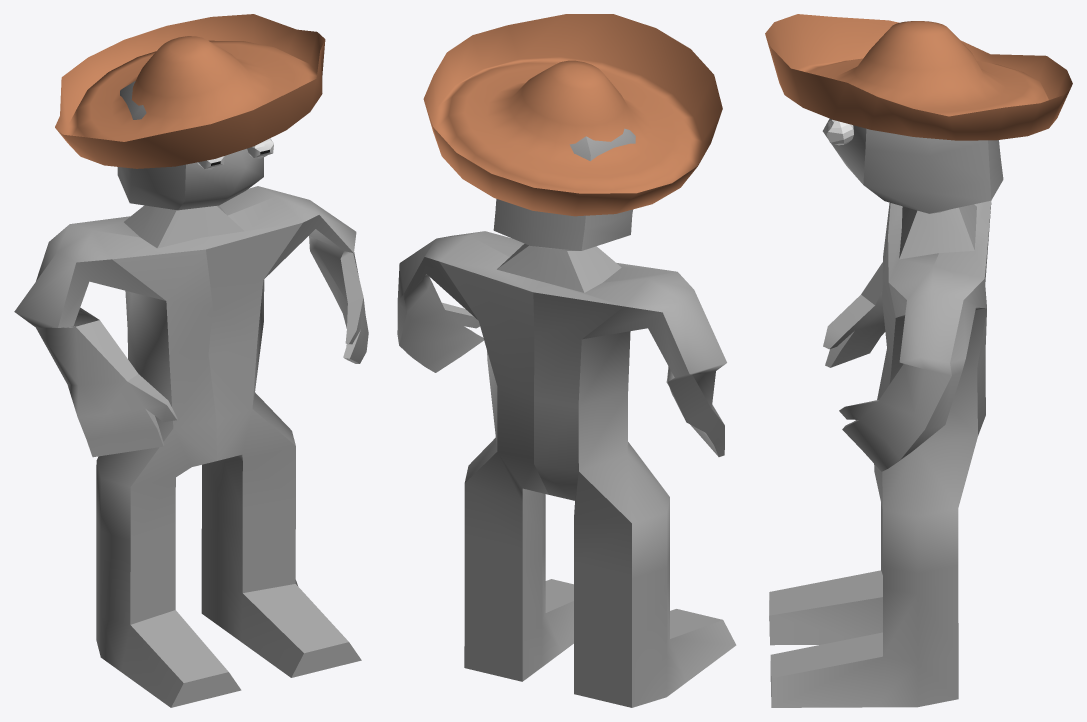
3 views of the same model, side by side, from view 1: azimuth 30°, elevation 25°; view 2: azimuth 150°, elevation 25°; view 3: azimuth 270°, elevation 25° (orthographic). The views are drawn at different scales.
Visible parts, largest first — view 1: polySurface6, pSphere1; view 2: polySurface6, pSphere1; view 3: polySurface6, pSphere1, pSphere15.
Boxes of the visible parts, <box> form: polySurface6: <box>14,81,368,707</box>; pSphere1: <box>55,14,325,168</box>; polySurface6: <box>397,128,736,707</box>; pSphere1: <box>423,14,722,216</box>; polySurface6: <box>769,118,1003,707</box>; pSphere1: <box>765,14,1072,140</box>; pSphere15: <box>826,119,853,145</box>.
Bounding box in the file's own units: 14.54 × 24.64 × 10.94.
